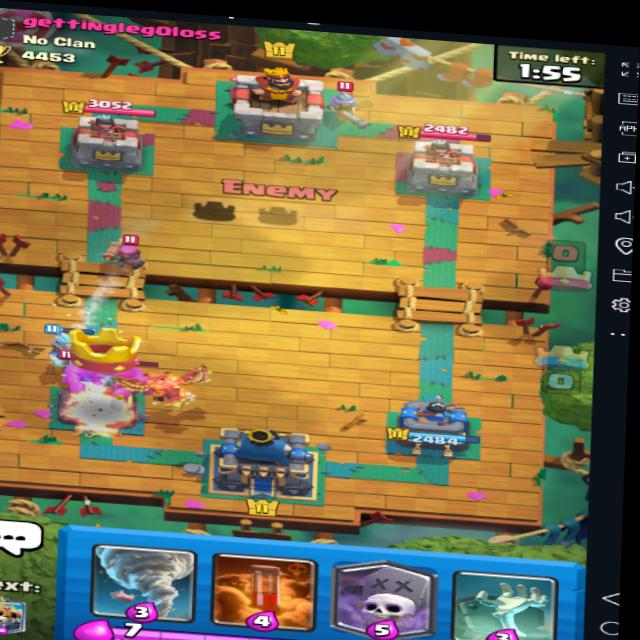electro-golem: (93, 358, 166, 406), (43, 341, 97, 391)
firecracker: (93, 228, 151, 277)
musketeer: (309, 77, 382, 135)
